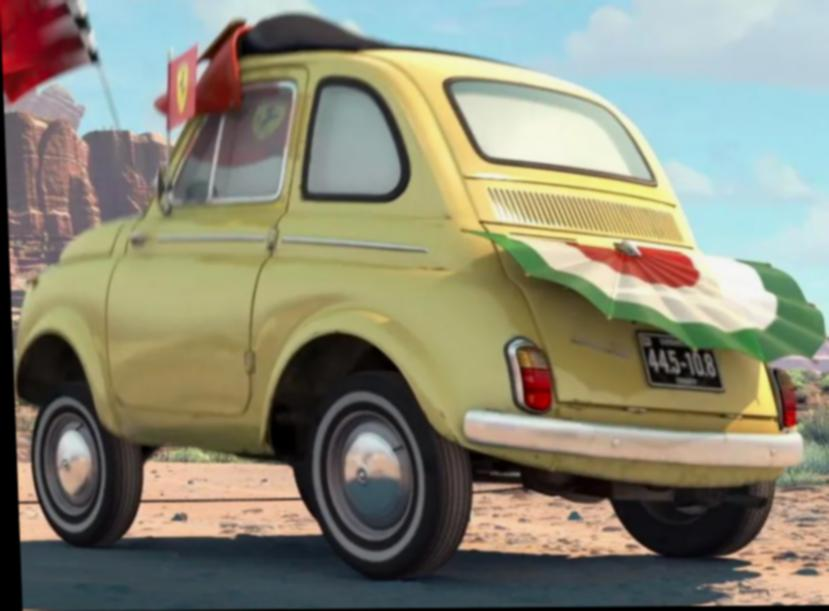License_Plate: (635, 347, 729, 388)
